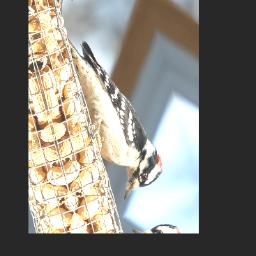Woodpecker: (63, 18, 169, 206)
